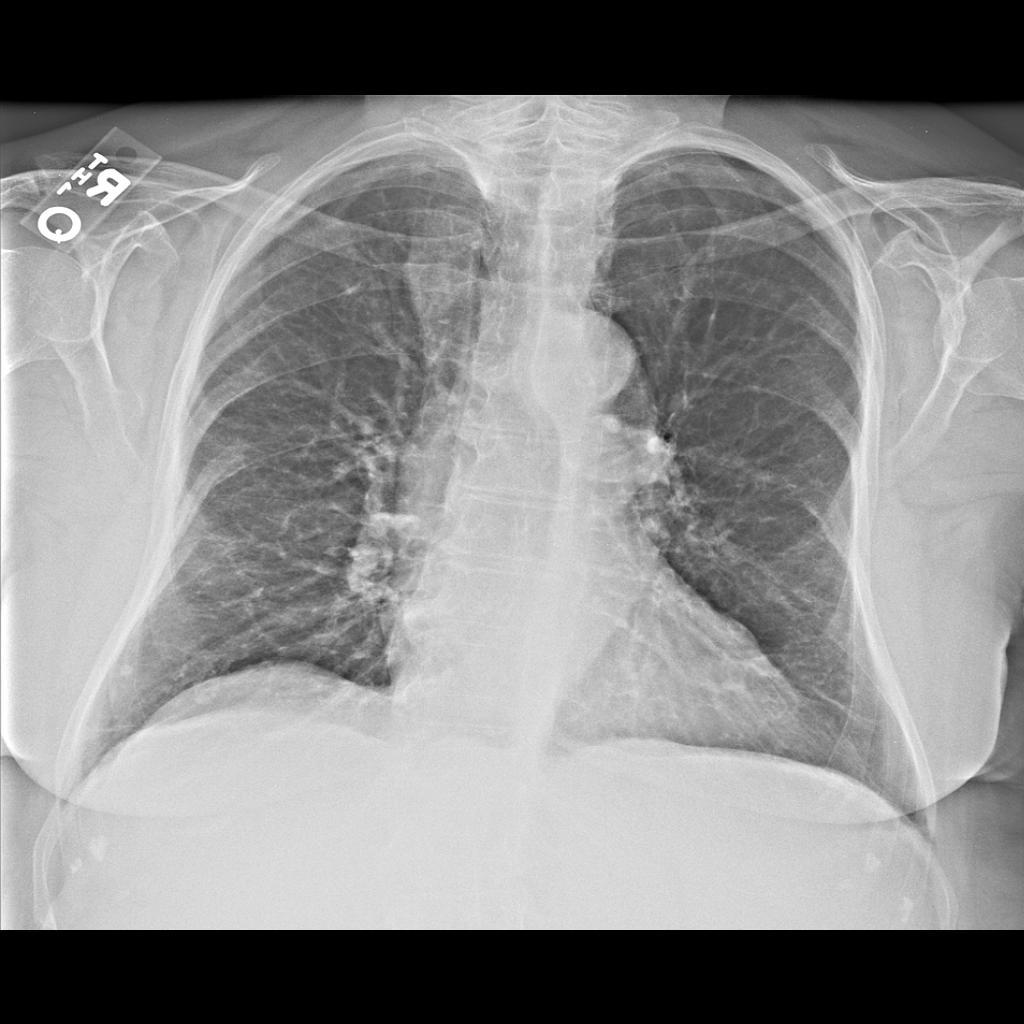Nodule: (402, 236, 477, 322)
